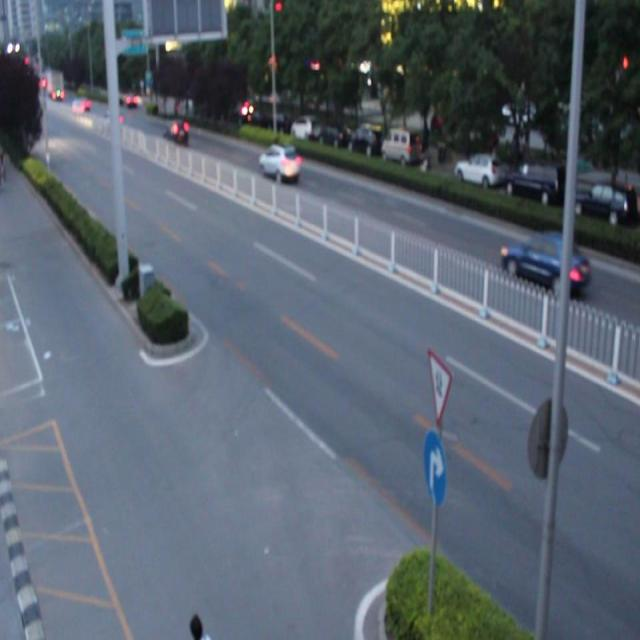car: (499, 234, 587, 295), (258, 142, 301, 182)
